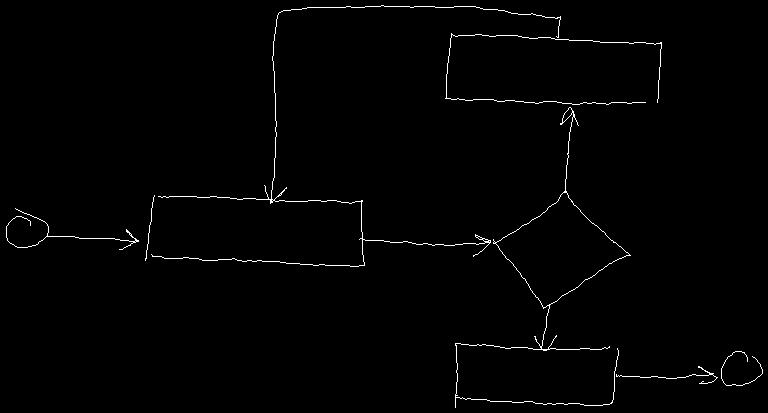arrow: (264, 5, 560, 203), (359, 234, 490, 256), (47, 229, 138, 249), (616, 366, 717, 383), (560, 107, 578, 192), (534, 304, 556, 350)
connection: (6, 208, 48, 247), (721, 351, 762, 385)
decision: (493, 190, 630, 308)
process: (145, 195, 364, 266), (445, 33, 661, 104), (455, 343, 618, 407)
